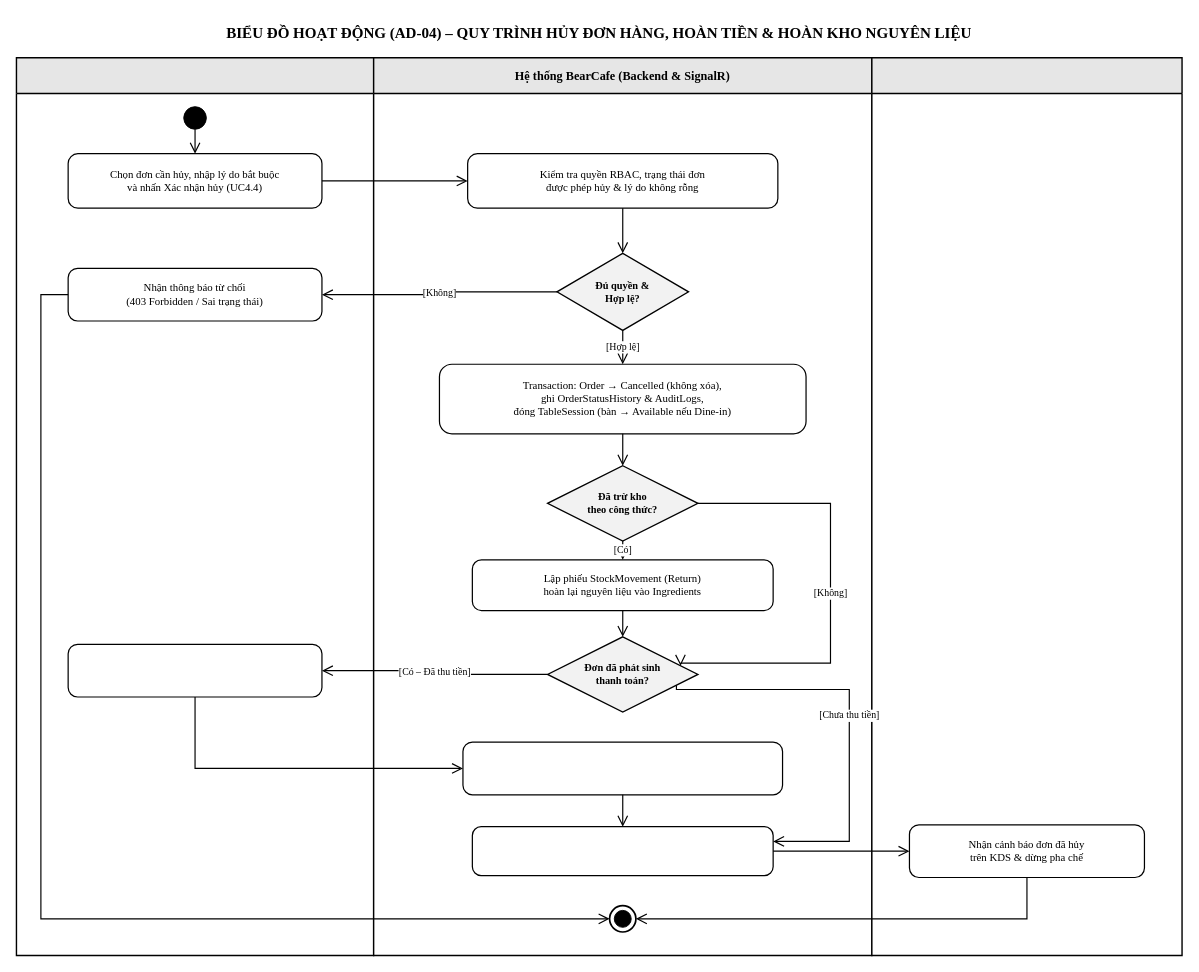
Some shapes in this 1199 by 972 pixel diagram are drawn without their labels. Here are the shapes that lost their labels. From the top down, the box of each, then its label:
(15, 57, 374, 956): Quản lý (MANAGER) / Chủ quán (ADMIN)
(871, 57, 1182, 956): Nhân viên pha chế (BARISTA)
(67, 643, 322, 697): Xác nhận hoàn tiền cho khách (UC6.2 – Nếu đã thu tiền)
(462, 741, 783, 795): Ghi nhận hoàn tiền (Refunded), loại khỏi doanh thu Dashboard & ghi AuditLogs
(471, 826, 773, 876): Đẩy thông báo Hủy đơn qua SignalR tới màn hình Kitchen Display
